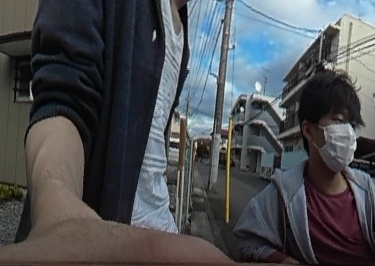person: (239, 70, 375, 266)
